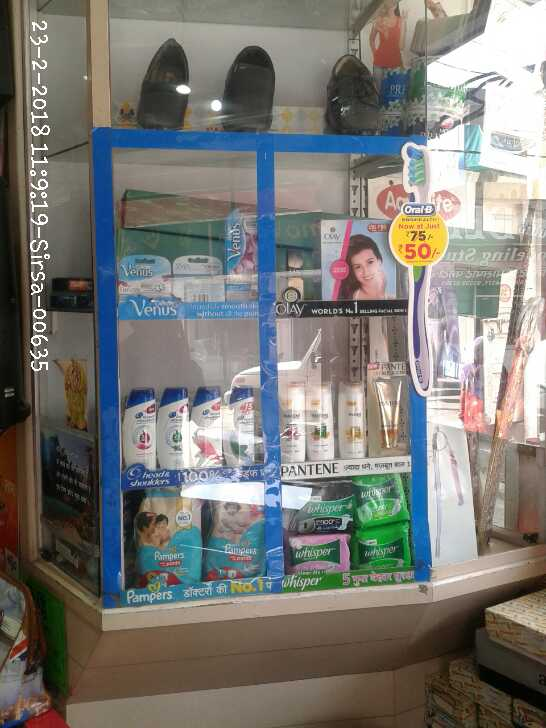venus: (224, 207, 258, 301), (172, 251, 224, 301), (121, 251, 172, 297)
